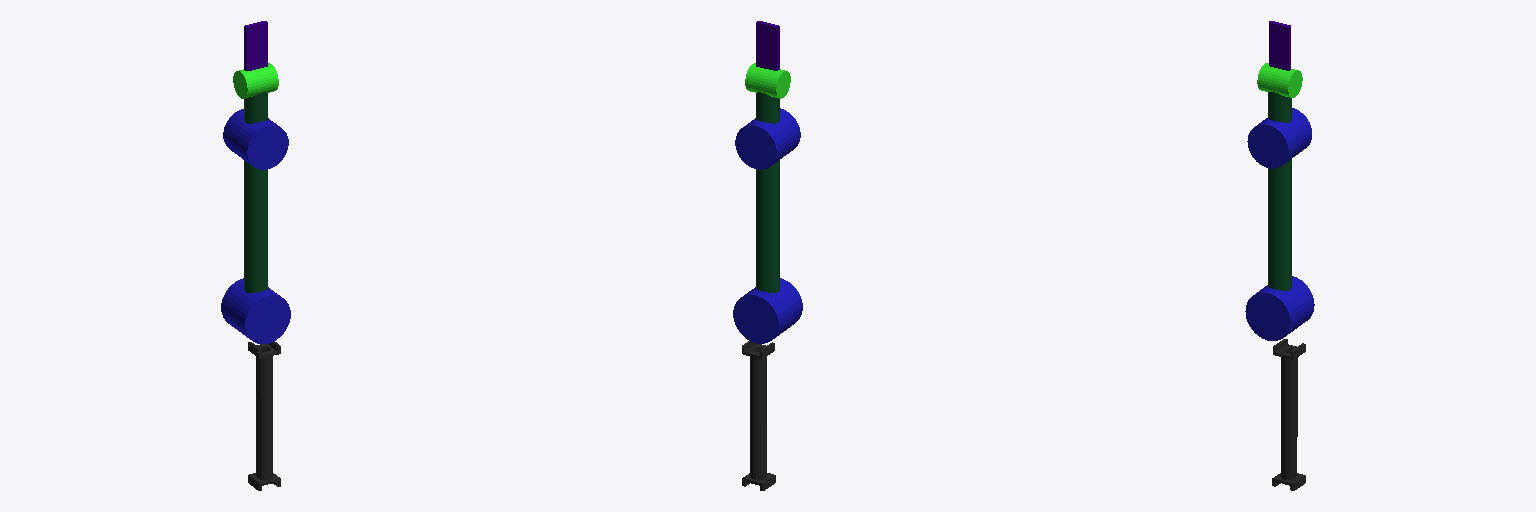
The robot description file, URDF, robot "robot":
<robot name="robot">

  <link name="base_footprint"></link>

  <joint name="base_joint" type="fixed">
    <parent link="base_footprint" />
    <child link="base_link" />
    <origin xyz="0 0 0.0004048057655643422" rpy="0 0 0" />
  </joint>

  <link name="base_link">
    <visual>
      <origin xyz="-0.175 0 0" rpy="0 0 0" />
      <geometry>
        <!-- <box size="0.5 0.5 0.01" /> -->
        <mesh filename="package://arm_pkg/urdf/Arm Base Plate.STL" scale="1 1 1"/>
      </geometry>
      <material name="base_link-material">
        <color rgba="0 0.6038273388475408 1 1" />
      </material>
    </visual>
    <collision>
      <origin xyz="-0.175 0 0" rpy="0 0 0" />
      <geometry>
        <box size="0.5 0.5 0.01" />
      </geometry>
    </collision>
    <inertial>
      <origin xyz="0 0 0" rpy="0 0 0" />
      <mass value="1" />
      <inertia ixx="0.17" ixy="0" ixz="0" iyy="0.17" iyz="0" izz="0.05" />
    </inertial>
  </link>

  <joint name="Axis_0" type="revolute">
    <parent link="base_link" />
    <child link="Axis_0_Plate" />
    <origin xyz="0 0 0.035" rpy="0 0 0" />
    <axis xyz="0 0 1"/>
    <limit effort="1000.0" lower="-2.5" upper="2.5" velocity="0.5"/>
  </joint>

  <link name="Axis_0_Plate">
    <visual>
      <origin xyz="-0.175 0 0" rpy="0 0 0" />
      <geometry>
        <!-- <cylinder radius="0.15" length="0.059" /> -->
        <mesh filename="package://arm_pkg/urdf/Axis_0_Plate.STL" scale="1 1 1"/>
      </geometry>
      <material name="Axis_0-material">
        <color rgba="0.3515325994898463 0.4735314961384573 0.9301108583738498 1" />
      </material>
    </visual>
    <collision>
      <origin xyz="-0.175 0 0" rpy="0 0 0" />
      <geometry>
        <cylinder radius="0.15" length="0.059" />
      </geometry>
    </collision>
    <inertial>
      <origin xyz="0 0 0" rpy="0 0 0" />
      <mass value="1" />
      <inertia ixx="0.3333333333333333" ixy="0" ixz="0" iyy="0.5" iyz="0" izz="0.3333333333333333" />
    </inertial>
  </link>

  <joint name="Axis_1_Joint" type="revolute">
    <parent link="Axis_0_Plate" />
    <child link="Axis_1" />
    <origin xyz="0 0 0.11189588647115647" rpy="1.5707963267948963 0 0" />
    <axis xyz="0 0 1"/>
    <limit effort="1000.0" lower="-1.7" upper="1.7" velocity="0.5"/>
  </joint>

  <link name="Axis_1">
    <visual>
      <origin xyz="0 -0.11 0.005" rpy="-1.6 0 0" />
      <geometry>
        <!-- <cylinder radius="0.082" length="0.1" /> -->
        <mesh filename="package://arm_pkg/urdf/Axis 1.STL" scale="1 1 1"/>
      </geometry>
      <material name="Axis_1-material">
        <color rgba="0.14702726648767014 0.14126329113044458 0.7304607400847158 1" />
      </material>
    </visual>
    <collision>
      <origin xyz="0 0 0" rpy="0 0 0" />
      <geometry>
        <cylinder radius="0.082" length="0.1" />
      </geometry>
    </collision>
    <inertial>
      <origin xyz="0 0 0" rpy="0 0 0" />
      <mass value="1" />
      <inertia ixx="0.3333333333333333" ixy="0" ixz="0" iyy="0.5" iyz="0" izz="0.3333333333333333" />
    </inertial>
  </link>

  <joint name="Axis_1_to_Segment_1" type="fixed">
    <parent link="Axis_1" />
    <child link="Segment_1" />
    <origin xyz="0 0.2350831500270899 0" rpy="-1.5707963267948963 0 0" />
  </joint>

  <link name="Segment_1">
    <visual>
      <origin xyz="-0.005 0 -0.35" rpy="0 0 0" />
      <geometry>
        <!-- <cylinder radius="0.025" length="0.473" /> -->
        <mesh filename="package://arm_pkg/urdf/Segment 1.STL" scale="1 1 1"/>
      </geometry>
      <material name="Segment_1-material">
        <color rgba="0.2 0.2 0.2 1" />
      </material>
    </visual>
    <collision>
      <origin xyz="0 0 0" rpy="0 0 0" />
      <geometry>
        <cylinder radius="0.025" length="0.473" />
      </geometry>
    </collision>
    <inertial>
      <origin xyz="0 0 0" rpy="0 0 0" />
      <mass value="1" />
      <inertia ixx="0.3333333333333333" ixy="0" ixz="0" iyy="0.5" iyz="0" izz="0.3333333333333333" />
    </inertial>
  </link>

  <joint name="Axis_2_Joint" type="revolute">
    <parent link="Segment_1" />
    <child link="Axis_2" />
    <origin xyz="0 -5.219894517229704e-17 0.2637568842473722" rpy="1.5707963267948963 0 0" />
    <axis xyz="0 0 1"/>
    <limit effort="1000.0" lower="-2.7" upper="2.7" velocity="0.5"/>
  </joint>

  <link name="Axis_2">
    <visual>
      <origin xyz="0 0 0" rpy="0 0 0" />
      <geometry>
        <cylinder radius="0.055" length="0.1" />
      </geometry>
      <material name="Axis_2-material">
        <color rgba="0.14702726648767014 0.14126329113044458 0.7304607400847158 1" />
      </material>
    </visual>
    <collision>
      <origin xyz="0 0 0" rpy="0 0 0" />
      <geometry>
        <cylinder radius="0.055" length="0.1" />
      </geometry>
    </collision>
    <inertial>
      <origin xyz="0 0 0" rpy="0 0 0" />
      <mass value="1" />
      <inertia ixx="0.3333333333333333" ixy="0" ixz="0" iyy="0.5" iyz="0" izz="0.3333333333333333" />
    </inertial>
  </link>

  <joint name="Axis_2_to_Segment_2" type="fixed">
    <parent link="Axis_2" />
    <child link="Segment_2" />
    <origin xyz="0 0.19535682173790003 0" rpy="-1.5707963267948963 0 0" />
  </joint>

  <link name="Segment_2">
    <visual>
      <origin xyz="0 0 0" rpy="0 0 0" />
      <geometry>
        <cylinder radius="0.025" length="0.393" />
      </geometry>
      <material name="Segment_2-material">
        <color rgba="0.09084171117479915 0.3231432091022285 0.1844749944900301 1" />
      </material>
    </visual>
    <collision>
      <origin xyz="0 0 0" rpy="0 0 0" />
      <geometry>
        <cylinder radius="0.025" length="0.393" />
      </geometry>
    </collision>
    <inertial>
      <origin xyz="0 0 0" rpy="0 0 0" />
      <mass value="1" />
      <inertia ixx="0.3333333333333333" ixy="0" ixz="0" iyy="0.5" iyz="0" izz="0.3333333333333333" />
    </inertial>
  </link>

  <joint name="Axis_3_Joint" type="revolute">
    <parent link="Segment_2" />
    <child link="Axis_3" />
    <origin xyz="0 -4.337792830220178e-17 0.199625776257357" rpy="1.5707963267948963 0 0" />
    <axis xyz="0 0 1"/>
    <limit effort="1000.0" lower="-1.6" upper="1.6" velocity="0.5"/>
  </joint>

  <link name="Axis_3">
    <visual>
      <origin xyz="0 0 0" rpy="0 0 0" />
      <geometry>
        <cylinder radius="0.05" length="0.1" />
      </geometry>
      <material name="Axis_3-material">
        <color rgba="0.14702726648767014 0.14126329113044458 0.7304607400847158 1" />
      </material>
    </visual>
    <collision>
      <origin xyz="0 0 0" rpy="0 0 0" />
      <geometry>
        <cylinder radius="0.05" length="0.1" />
      </geometry>
    </collision>
    <inertial>
      <origin xyz="0 0 0" rpy="0 0 0" />
      <mass value="1" />
      <inertia ixx="0.3333333333333333" ixy="0" ixz="0" iyy="0.5" iyz="0" izz="0.3333333333333333" />
    </inertial>
  </link>

  <joint name="Axis_3_to_Segment_3" type="fixed">
    <parent link="Axis_3" />
    <child link="Segment_3" />
    <origin xyz="0 0.06725724726912972 0" rpy="-1.5707963267948963 0 0" />
  </joint>

  <link name="Segment_3">
    <visual>
      <origin xyz="0 0 0" rpy="0 0 0" />
      <geometry>
        <cylinder radius="0.025" length="0.135" />
      </geometry>
      <material name="Segment_3-material">
        <color rgba="0.09084171117479915 0.3231432091022285 0.1844749944900301 1" />
      </material>
    </visual>
    <collision>
      <origin xyz="0 0 0" rpy="0 0 0" />
      <geometry>
        <cylinder radius="0.025" length="0.135" />
      </geometry>
    </collision>
    <inertial>
      <origin xyz="0 0 0" rpy="0 0 0" />
      <mass value="1" />
      <inertia ixx="0.3333333333333333" ixy="0" ixz="0" iyy="0.5" iyz="0" izz="0.3333333333333333" />
    </inertial>
  </link>

  <joint name="Wrist_Joint" type="revolute">
    <parent link="Segment_3" />
    <child link="Axis_4" />
    <origin xyz="0 0 0.0655808825338593" rpy="0 1.5707963267948966 0" />
    <axis xyz="0 0 1"/>
    <limit effort="1000.0" lower="-1.6" upper="1.6" velocity="0.5"/>
  </joint>

  <link name="Axis_4">
    <visual>
      <origin xyz="0 0 0" rpy="0 0 0" />
      <geometry>
        <cylinder radius="0.03" length="0.075" />
      </geometry>
      <material name="Axis_4-material">
        <color rgba="0.23455058215026167 0.9301108583738498 0.21952619971859377 1" />
      </material>
    </visual>
    <collision>
      <origin xyz="0 0 0" rpy="0 0 0" />
      <geometry>
        <cylinder radius="0.03" length="0.075" />
      </geometry>
    </collision>
    <inertial>
      <origin xyz="0 0 0" rpy="0 0 0" />
      <mass value="1" />
      <inertia ixx="0.3333333333333333" ixy="0" ixz="0" iyy="0.5" iyz="0" izz="0.3333333333333333" />
    </inertial>
  </link>

  <joint name="Continuous_Joint" type="revolute">
    <parent link="Axis_4" />
    <child link="Axis_4_C" />
    <origin xyz="0.0009533507860803557 0 0" rpy="0 -1.5707963267948966 0" />
    <axis xyz="0 0 1"/>
    <limit effort="1000.0" lower="-3.14" upper="3.14" velocity="0.5"/>
  </joint>

  <link name="Axis_4_C">
    <visual>
      <origin xyz="0 0 0" rpy="0 0 0" />
      <geometry>
        <cylinder radius="0.02" length="0.01" />
      </geometry>
      <material name="Axis_4_C-material">
        <color rgba="0.006048833020386069 0.407240211891531 0.15592646369776456 1" />
      </material>
    </visual>
    <collision>
      <origin xyz="0 0 0" rpy="0 0 0" />
      <geometry>
        <cylinder radius="0.02" length="0.01" />
      </geometry>
    </collision>
    <inertial>
      <origin xyz="0 0 0" rpy="0 0 0" />
      <mass value="1" />
      <inertia ixx="0.3333333333333333" ixy="0" ixz="0" iyy="0.5" iyz="0" izz="0.3333333333333333" />
    </inertial>
  </link>

  <joint name="Axis_4_C_to_Effector" type="fixed">
    <parent link="Axis_4_C" />
    <child link="Effector" />
    <origin xyz="0 0 0.06478774571448076" rpy="0 0 0" />
  </joint>

  <link name="Effector">
    <visual>
      <origin xyz="0 0 0" rpy="0 0 0" />
      <geometry>
        <box size="0.05 0.01 0.135" />
      </geometry>
      <material name="Effector-material">
        <color rgba="0.2746773120495699 0.01680737574872402 0.5711248294565854 1" />
      </material>
    </visual>
    <collision>
      <origin xyz="0 0 0" rpy="0 0 0" />
      <geometry>
        <box size="0.01 0.01 0.135" />
      </geometry>
    </collision>
    <inertial>
      <origin xyz="0 0 0" rpy="0 0 0" />
      <mass value="1" />
      <inertia ixx="0.16666666666666666" ixy="0" ixz="0" iyy="0.16666666666666666" iyz="0" izz="0.16666666666666666" />
    </inertial>
  </link>

</robot>

--- What the picture shows (computed from the rendered views, not written in the file) ---
Views: 3 orthographic renders of the robot side by side, from view 1: azimuth 30°, elevation 25°; view 2: azimuth 150°, elevation 25°; view 3: azimuth 330°, elevation 25°.
Robot: robot — 12 links, 11 joints (6 revolute, 5 fixed); root link base_footprint; default pose: every joint at zero.
Links seen in each view (by area): view 1: Axis_2, Segment_2, Segment_1, Axis_3, Axis_4, Effector, Segment_3; view 2: Segment_2, Axis_2, Segment_1, Axis_3, Axis_4, Effector, Segment_3; view 3: Segment_2, Axis_2, Segment_1, Axis_3, Axis_4, Effector, Segment_3.
Boxes of the visible links, left/top/right/bottom form: Axis_2: left=221, top=278, right=290, bottom=343; Segment_2: left=244, top=160, right=267, bottom=292; Segment_1: left=248, top=341, right=280, bottom=490; Axis_3: left=223, top=109, right=288, bottom=169; Axis_4: left=233, top=63, right=278, bottom=98; Effector: left=244, top=21, right=267, bottom=70; Segment_3: left=244, top=92, right=267, bottom=123; Segment_2: left=756, top=160, right=779, bottom=292; Axis_2: left=733, top=278, right=802, bottom=343; Segment_1: left=742, top=341, right=775, bottom=490; Axis_3: left=735, top=108, right=800, bottom=169; Axis_4: left=745, top=63, right=790, bottom=98; Effector: left=756, top=21, right=779, bottom=70; Segment_3: left=756, top=92, right=779, bottom=123; Segment_2: left=1268, top=159, right=1291, bottom=290; Axis_2: left=1245, top=276, right=1314, bottom=340; Segment_1: left=1272, top=339, right=1305, bottom=490; Axis_3: left=1247, top=108, right=1311, bottom=168; Axis_4: left=1257, top=63, right=1302, bottom=97; Effector: left=1269, top=21, right=1290, bottom=70; Segment_3: left=1268, top=92, right=1291, bottom=122.
Size in the robot's own frame: 0.11 by 0.1 by 1.06 metres.
1 mesh visuals loaded from 4 distinct referenced files (1 binary STL); not drawn: 3 (reference not matched to a file when rendering).